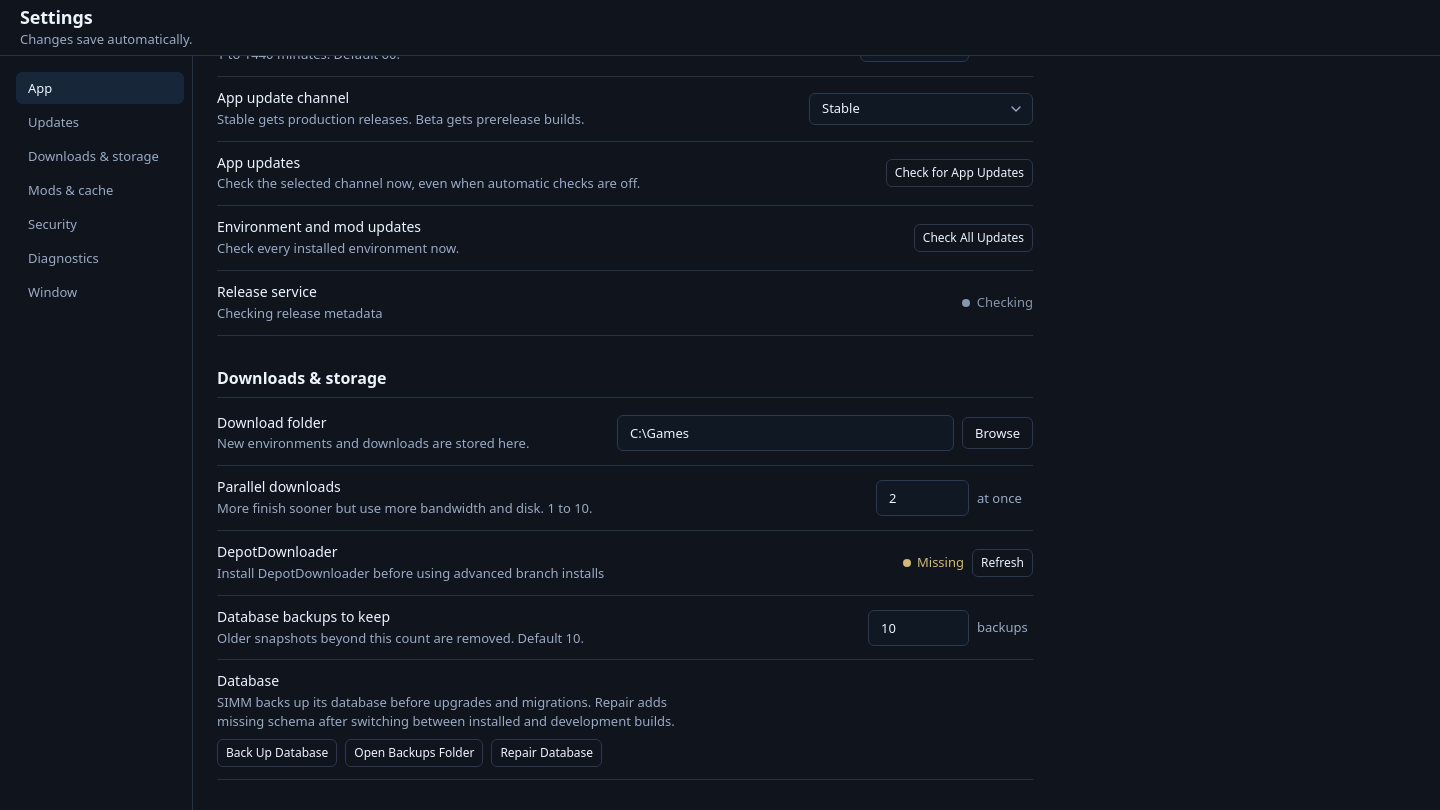
Test case: Settings › opens the directory picker from the sidebar and browses the current path
(page scrolled)
Click the button "Browse" at (998, 433), box [962, 417, 1033, 449]
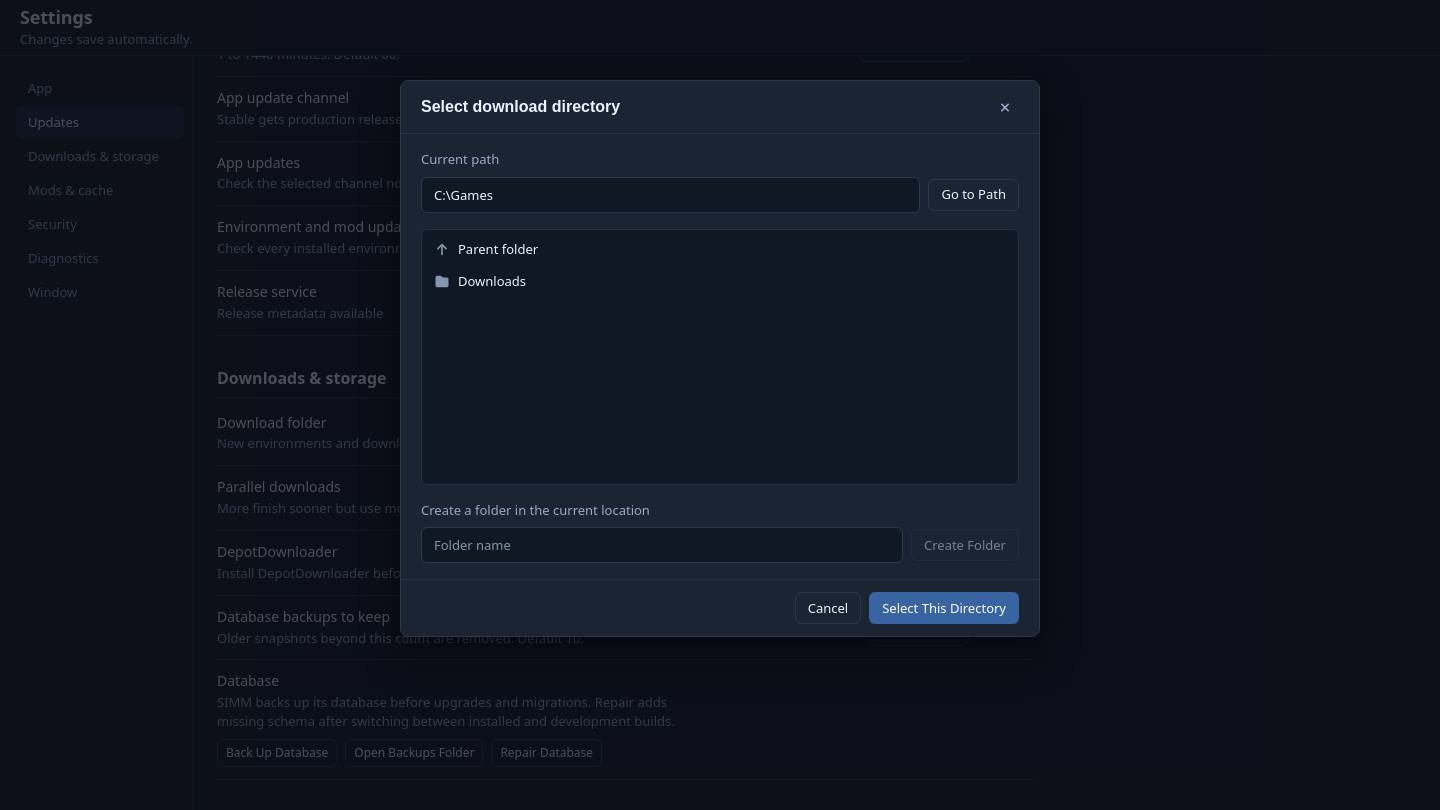
Check: the heading "Select download directory" is shown, box [421, 97, 620, 117]
